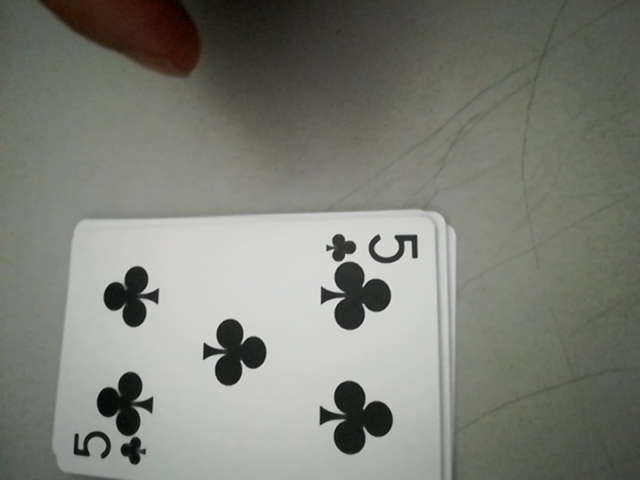mh 5: (321, 225, 425, 267), (68, 426, 149, 473)
